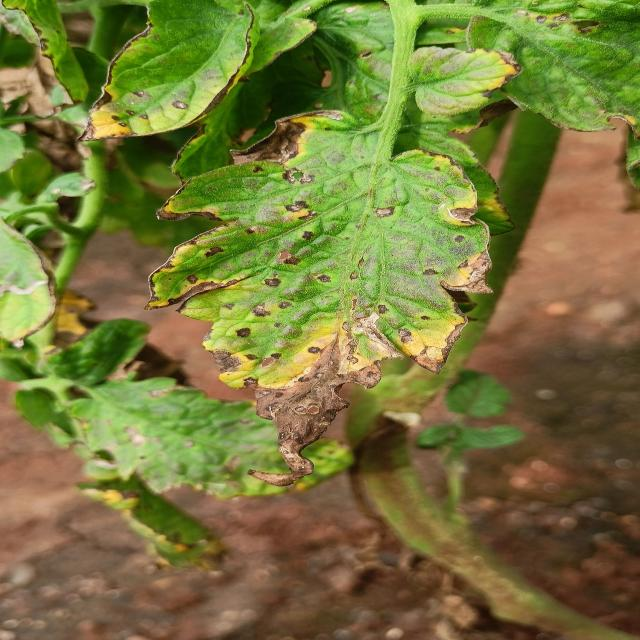Early Blight: (135, 107, 506, 491)
